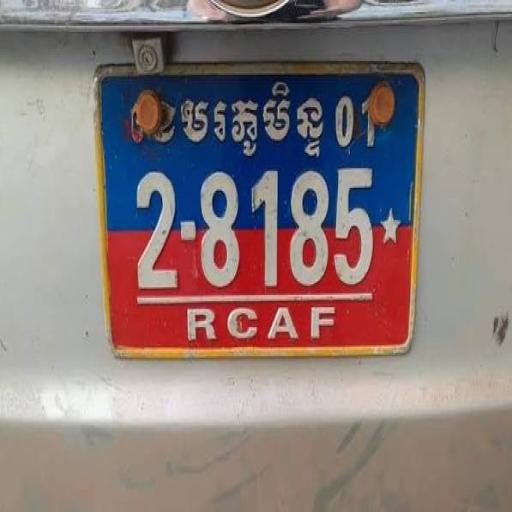Plate Number: (96, 66, 422, 354)
